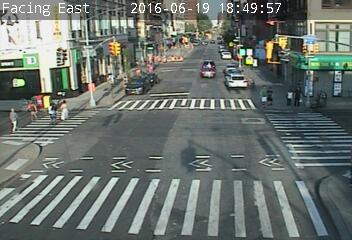neg: (173, 53, 189, 75), (186, 32, 199, 51), (162, 52, 170, 63), (178, 39, 183, 46)
pos: (1, 105, 22, 132), (279, 86, 296, 110), (25, 100, 42, 122)
